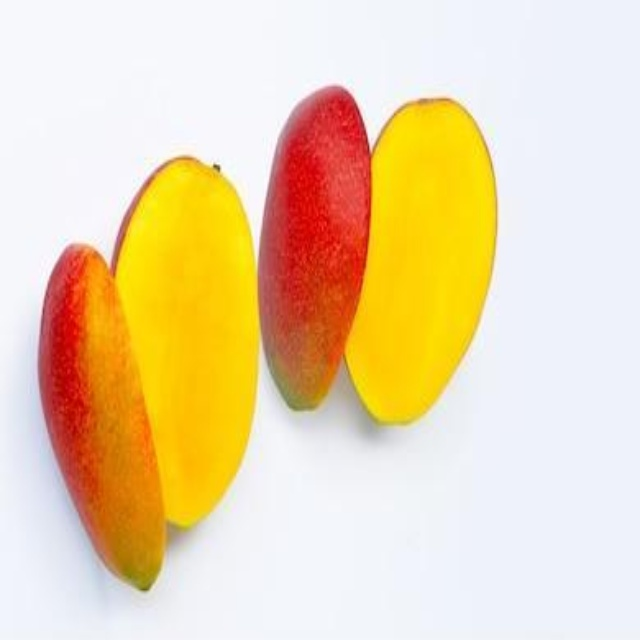mango: (40, 157, 260, 596), (261, 87, 493, 422)
